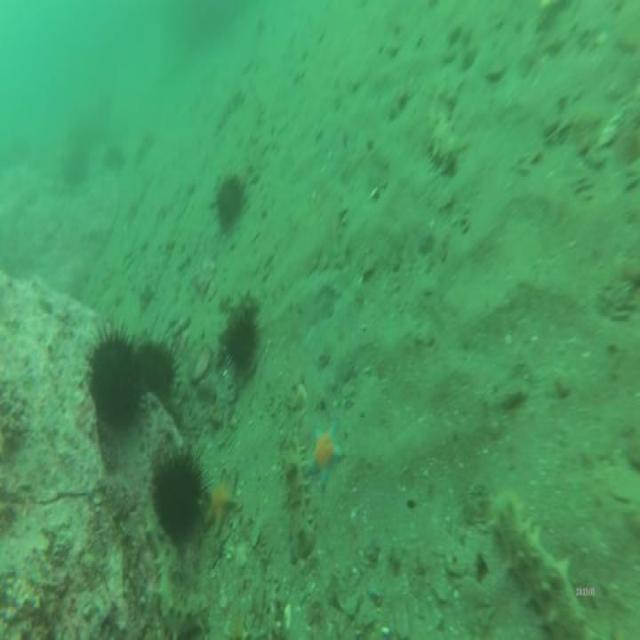echinus: (143, 438, 207, 550), (86, 319, 144, 432), (133, 329, 183, 403), (220, 308, 262, 379), (214, 170, 252, 238)
holothurian: (489, 488, 591, 640), (280, 442, 315, 560), (428, 81, 463, 177)
starfish: (304, 422, 345, 493), (206, 466, 244, 539)
